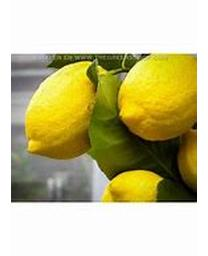lemon: (24, 61, 114, 160), (118, 54, 197, 140)
